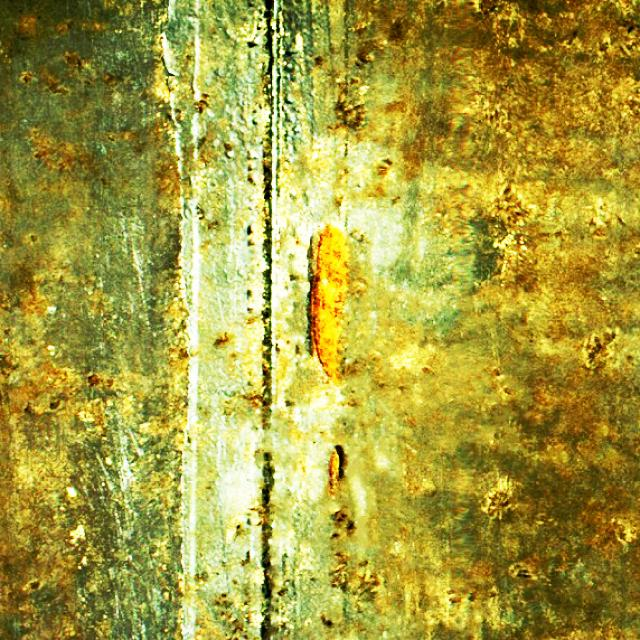Corrosion: (309, 226, 348, 387), (328, 451, 340, 494)
